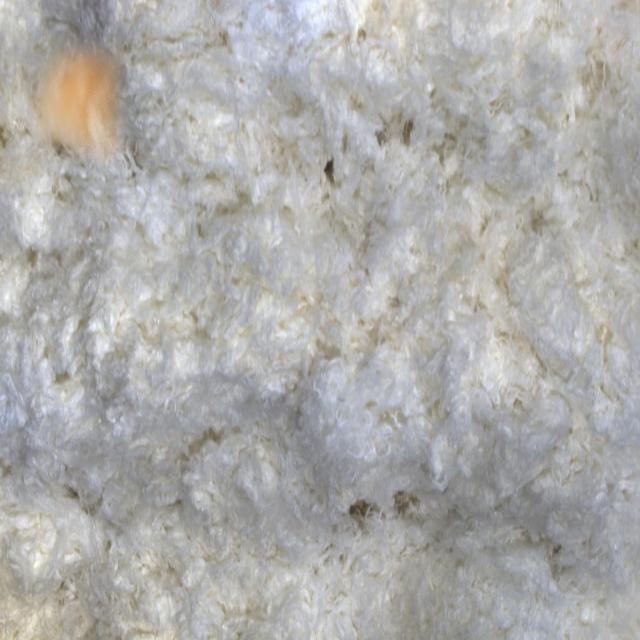dust: (27, 35, 131, 166)
